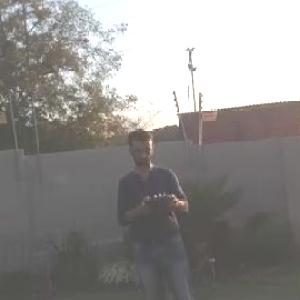follow: (101, 121, 199, 299)
